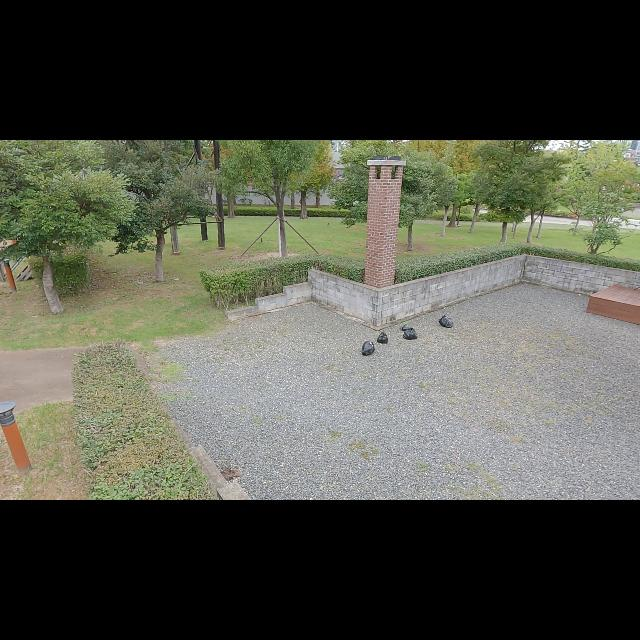trash: (436, 314, 454, 331), (360, 339, 376, 356), (402, 327, 418, 341), (376, 330, 389, 344), (400, 323, 412, 333)
